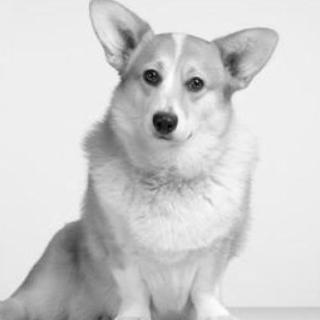dog: (96, 0, 277, 154)
nose: (150, 106, 179, 136)
